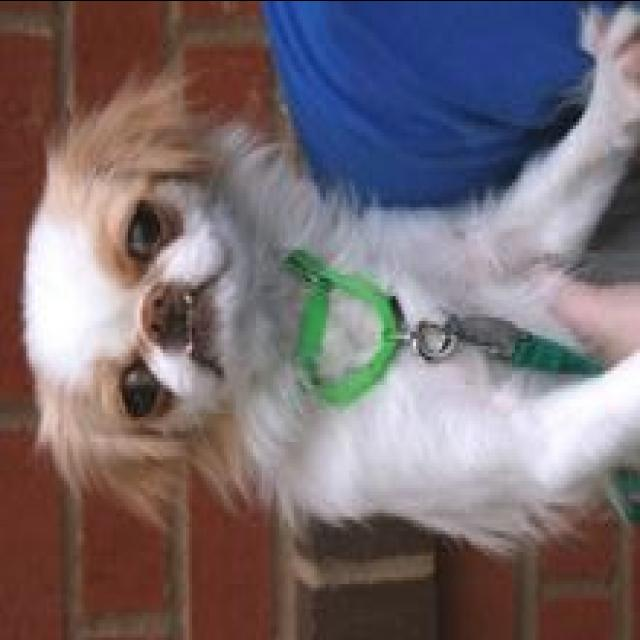husky: (21, 3, 636, 566)
